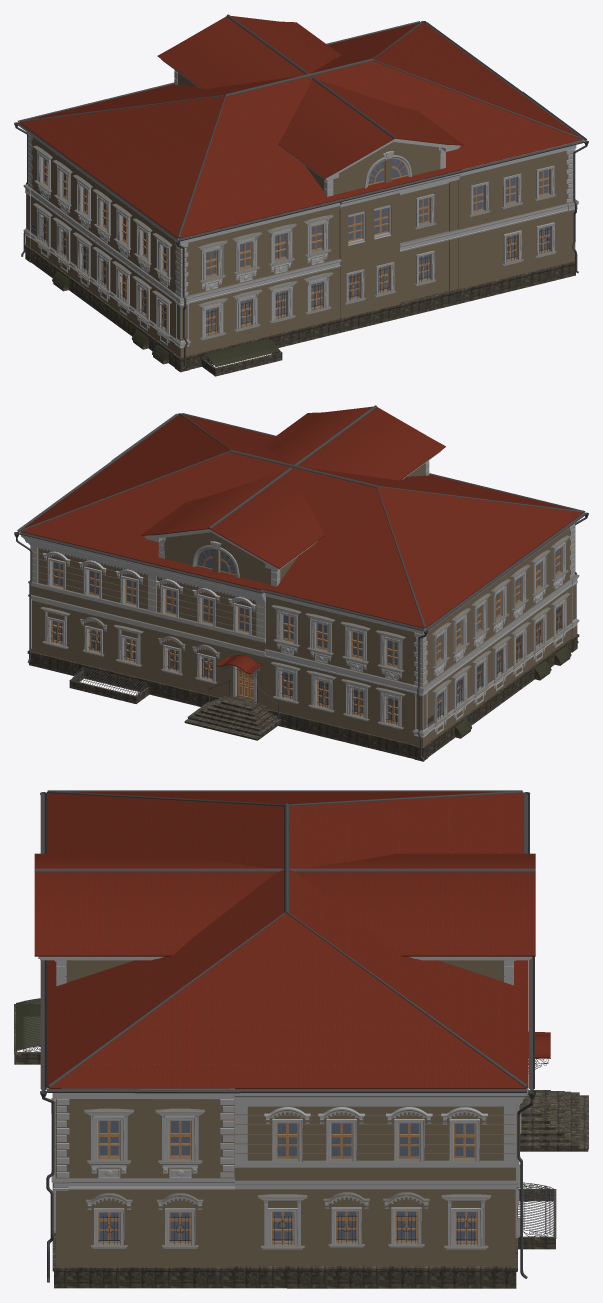
The model's file is school.glb.
3 renders of one model, top to bottom at view 1: azimuth 30°, elevation 25°; view 2: azimuth 150°, elevation 25°; view 3: azimuth 270°, elevation 25°, orthographic. The views are drawn at different scales.
Parts seen in each view (by area): view 1: SM_Ln_2Kadashevsky_3str1_001_RoofMetal_0, SM_Ln_2Kadashevsky_3str1_001_PinkGipsym_0, SM_Ln_2Kadashevsky_3str1_001_WhiteGipsym_0 (×2), SM_Ln_2Kadashevsky_3str1_002_BaseTile.001_0, SM_Ln_2Kadashevsky_3str1_001_BlackMetal.001_0, SM_Ln_2Kadashevsky_3str1_001_WindowRoofMetal_0, SM_Ln_2Kadashevsky_3str1_Parallax_ParalaxMaterial.001_0, SM_Ln_2Kadashevsky_3str1_001_WOOD_0, SM_Ln_2Kadashevsky_3str1_001_GrayMetal_0, SM_Ln_2Kadashevsky_3str1_001_Plastic.001_0, SM_Ln_2Kadashevsky_3str1_002_Plastic.001_0; view 2: SM_Ln_2Kadashevsky_3str1_001_RoofMetal_0, SM_Ln_2Kadashevsky_3str1_001_PinkGipsym_0, SM_Ln_2Kadashevsky_3str1_001_WhiteGipsym_0 (×2), SM_Ln_2Kadashevsky_3str1_002_BaseTile.001_0, SM_Ln_2Kadashevsky_3str1_001_BlackMetal.001_0, SM_Ln_2Kadashevsky_3str1_001_WindowRoofMetal_0, SM_Ln_2Kadashevsky_3str1_001_WOOD_0, SM_Ln_2Kadashevsky_3str1_Parallax_ParalaxMaterial.001_0, SM_Ln_2Kadashevsky_3str1_001_GrayMetal_0, SM_Ln_2Kadashevsky_3str1_002_Plastic.001_0; view 3: SM_Ln_2Kadashevsky_3str1_001_RoofMetal_0, SM_Ln_2Kadashevsky_3str1_001_PinkGipsym_0, SM_Ln_2Kadashevsky_3str1_001_WhiteGipsym_0 (×2), SM_Ln_2Kadashevsky_3str1_002_BaseTile.001_0, SM_Ln_2Kadashevsky_3str1_001_BlackMetal.001_0, SM_Ln_2Kadashevsky_3str1_Parallax_ParalaxMaterial.001_0, SM_Ln_2Kadashevsky_3str1_001_WindowRoofMetal_0, SM_Ln_2Kadashevsky_3str1_001_WOOD_0, SM_Ln_2Kadashevsky_3str1_001_Plastic.001_0, SM_Ln_2Kadashevsky_3str1_001_GrayMetal_0.
Part boxes in pixels (bbox=[...]): SM_Ln_2Kadashevsky_3str1_001_RoofMetal_0: bbox=[20, 15, 582, 238]; SM_Ln_2Kadashevsky_3str1_001_PinkGipsym_0: bbox=[26, 72, 575, 357]; SM_Ln_2Kadashevsky_3str1_001_WhiteGipsym_0 (×2): bbox=[19, 59, 583, 348]; SM_Ln_2Kadashevsky_3str1_002_BaseTile.001_0: bbox=[23, 244, 575, 376]; SM_Ln_2Kadashevsky_3str1_001_BlackMetal.001_0: bbox=[14, 14, 588, 369]; SM_Ln_2Kadashevsky_3str1_001_WindowRoofMetal_0: bbox=[24, 145, 578, 343]; SM_Ln_2Kadashevsky_3str1_Parallax_ParalaxMaterial.001_0: bbox=[44, 159, 548, 333]; SM_Ln_2Kadashevsky_3str1_001_WOOD_0: bbox=[43, 158, 549, 334]; SM_Ln_2Kadashevsky_3str1_001_GrayMetal_0: bbox=[41, 217, 550, 334]; SM_Ln_2Kadashevsky_3str1_001_Plastic.001_0: bbox=[204, 338, 280, 366]; SM_Ln_2Kadashevsky_3str1_002_Plastic.001_0: bbox=[52, 271, 168, 361]; SM_Ln_2Kadashevsky_3str1_001_RoofMetal_0: bbox=[20, 406, 582, 674]; SM_Ln_2Kadashevsky_3str1_001_PinkGipsym_0: bbox=[31, 463, 576, 747]; SM_Ln_2Kadashevsky_3str1_001_WhiteGipsym_0 (×2): bbox=[20, 449, 579, 737]; SM_Ln_2Kadashevsky_3str1_002_BaseTile.001_0: bbox=[27, 634, 579, 761]; SM_Ln_2Kadashevsky_3str1_001_BlackMetal.001_0: bbox=[14, 405, 588, 761]; SM_Ln_2Kadashevsky_3str1_001_WindowRoofMetal_0: bbox=[28, 535, 578, 733]; SM_Ln_2Kadashevsky_3str1_001_WOOD_0: bbox=[51, 548, 560, 724]; SM_Ln_2Kadashevsky_3str1_Parallax_ParalaxMaterial.001_0: bbox=[53, 549, 559, 722]; SM_Ln_2Kadashevsky_3str1_001_GrayMetal_0: bbox=[50, 606, 562, 724]; SM_Ln_2Kadashevsky_3str1_002_Plastic.001_0: bbox=[455, 646, 571, 735]; SM_Ln_2Kadashevsky_3str1_001_RoofMetal_0: bbox=[34, 791, 550, 1088]; SM_Ln_2Kadashevsky_3str1_001_PinkGipsym_0: bbox=[56, 960, 516, 1267]; SM_Ln_2Kadashevsky_3str1_001_WhiteGipsym_0 (×2): bbox=[38, 956, 531, 1249]; SM_Ln_2Kadashevsky_3str1_002_BaseTile.001_0: bbox=[14, 1004, 588, 1288]; SM_Ln_2Kadashevsky_3str1_001_BlackMetal.001_0: bbox=[16, 790, 554, 1282]; SM_Ln_2Kadashevsky_3str1_Parallax_ParalaxMaterial.001_0: bbox=[99, 1121, 475, 1240]; SM_Ln_2Kadashevsky_3str1_001_WindowRoofMetal_0: bbox=[51, 1093, 521, 1248]; SM_Ln_2Kadashevsky_3str1_001_WOOD_0: bbox=[98, 1121, 476, 1243]; SM_Ln_2Kadashevsky_3str1_001_Plastic.001_0: bbox=[16, 998, 40, 1050]; SM_Ln_2Kadashevsky_3str1_001_GrayMetal_0: bbox=[98, 1215, 476, 1244].
Bounding box in the file's own units: 27.49 × 12.14 × 22.11.
Materials: 14 (3 with a texture image).
